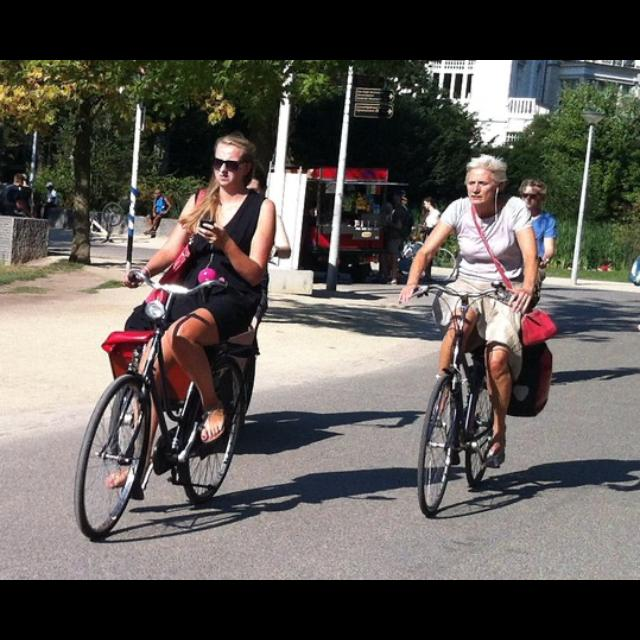Without Helmet: (205, 124, 267, 196), (452, 147, 514, 215)
